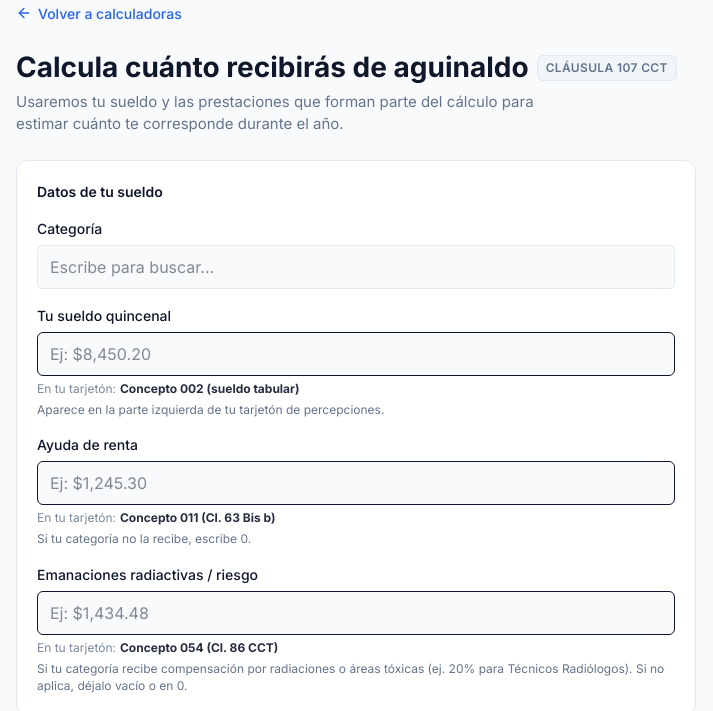
Test: Calculadoras Rediseño - UX y Equivalencia Matemática › AguinaldoCalculator › permite limpiar el formulario y resetear estado
This screenshot has width=713, height=711.
Type "8500" into the field labelled "Tu sueldo quincenal".
click(356, 354); type("8500")  # box top-left (37, 332), bottom-right (675, 376)
(page scrolled)
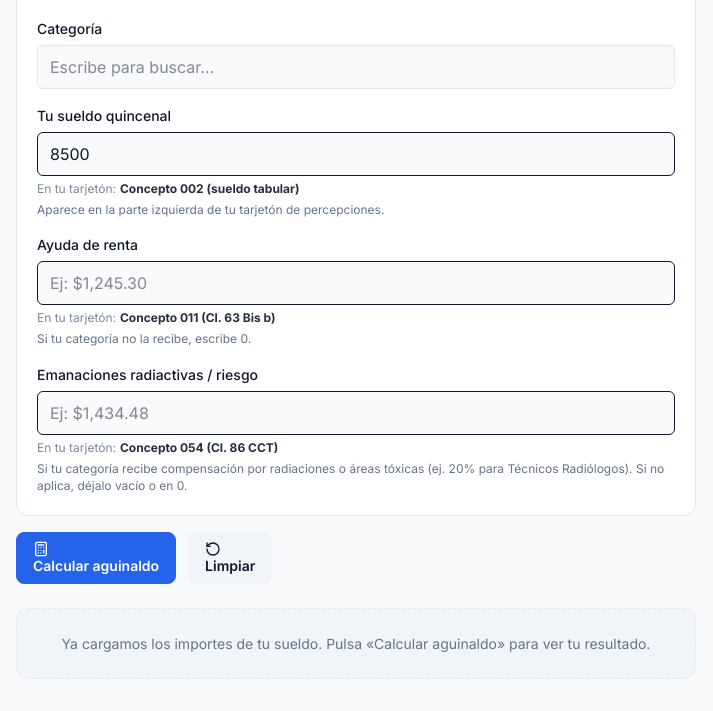
Click the button "Limpiar".
click(230, 558)  # box top-left (188, 532), bottom-right (272, 584)
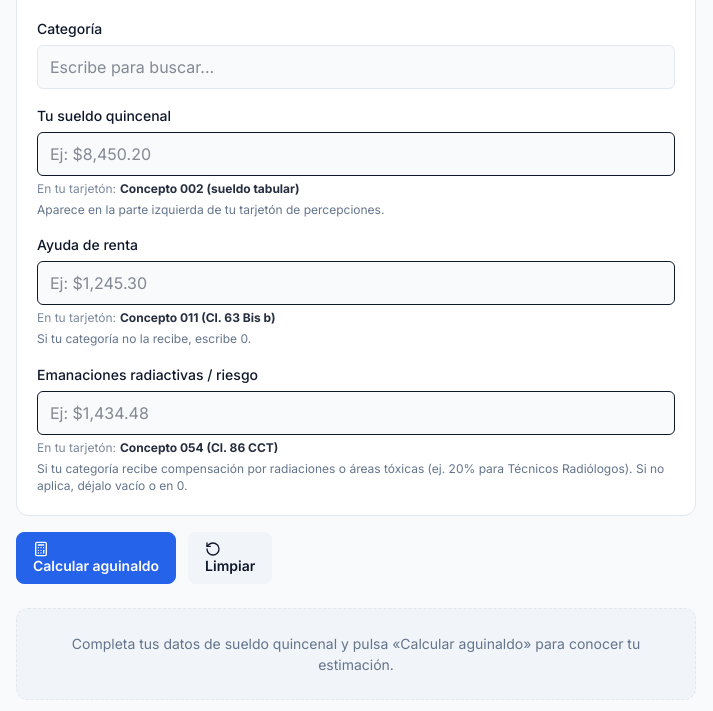
Result: the field labelled "Tu sueldo quincenal" is empty at top-left (37, 132), bottom-right (675, 176)
